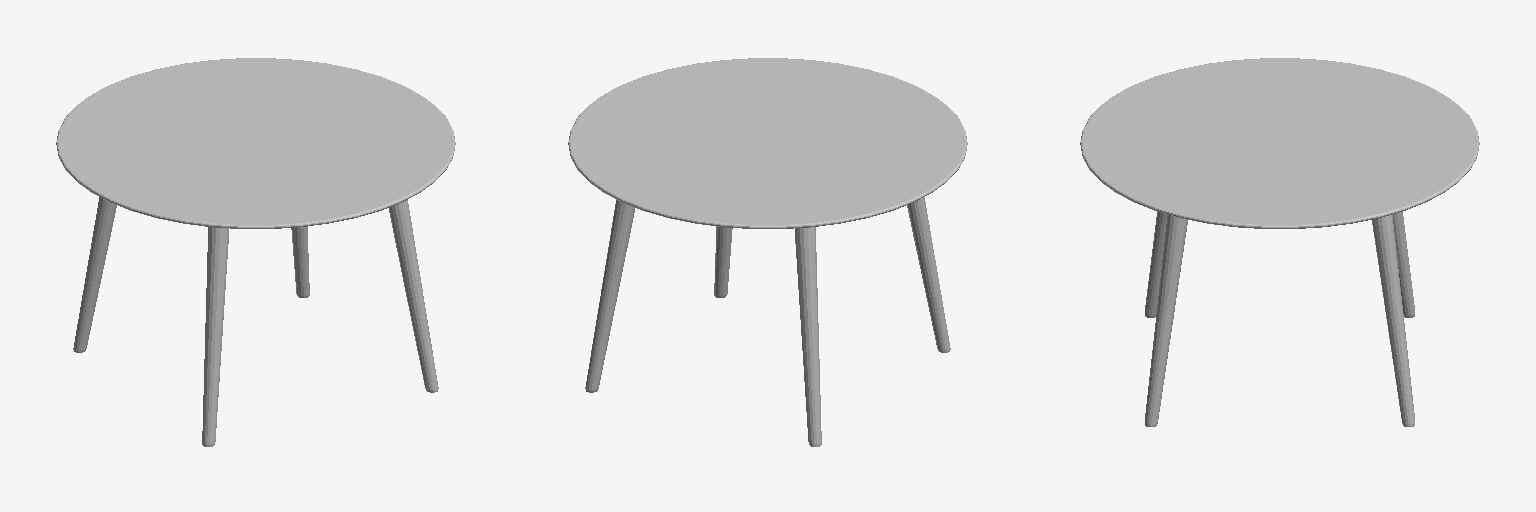
File: RoundTable.obj
3 renders of one model, left to right at view 1: azimuth 30°, elevation 25°; view 2: azimuth 150°, elevation 25°; view 3: azimuth 270°, elevation 25°, orthographic.
Parts seen in each view (by area): view 1: Table_421-707; view 2: Table_421-707; view 3: Table_421-707.
Boxes of the visible parts, x1,y1,x2,y2 form: Table_421-707: [56, 58, 455, 446]; Table_421-707: [568, 58, 967, 446]; Table_421-707: [1080, 58, 1479, 426].
Size of the model in its own units: 1.2 by 0.7601 by 1.2.